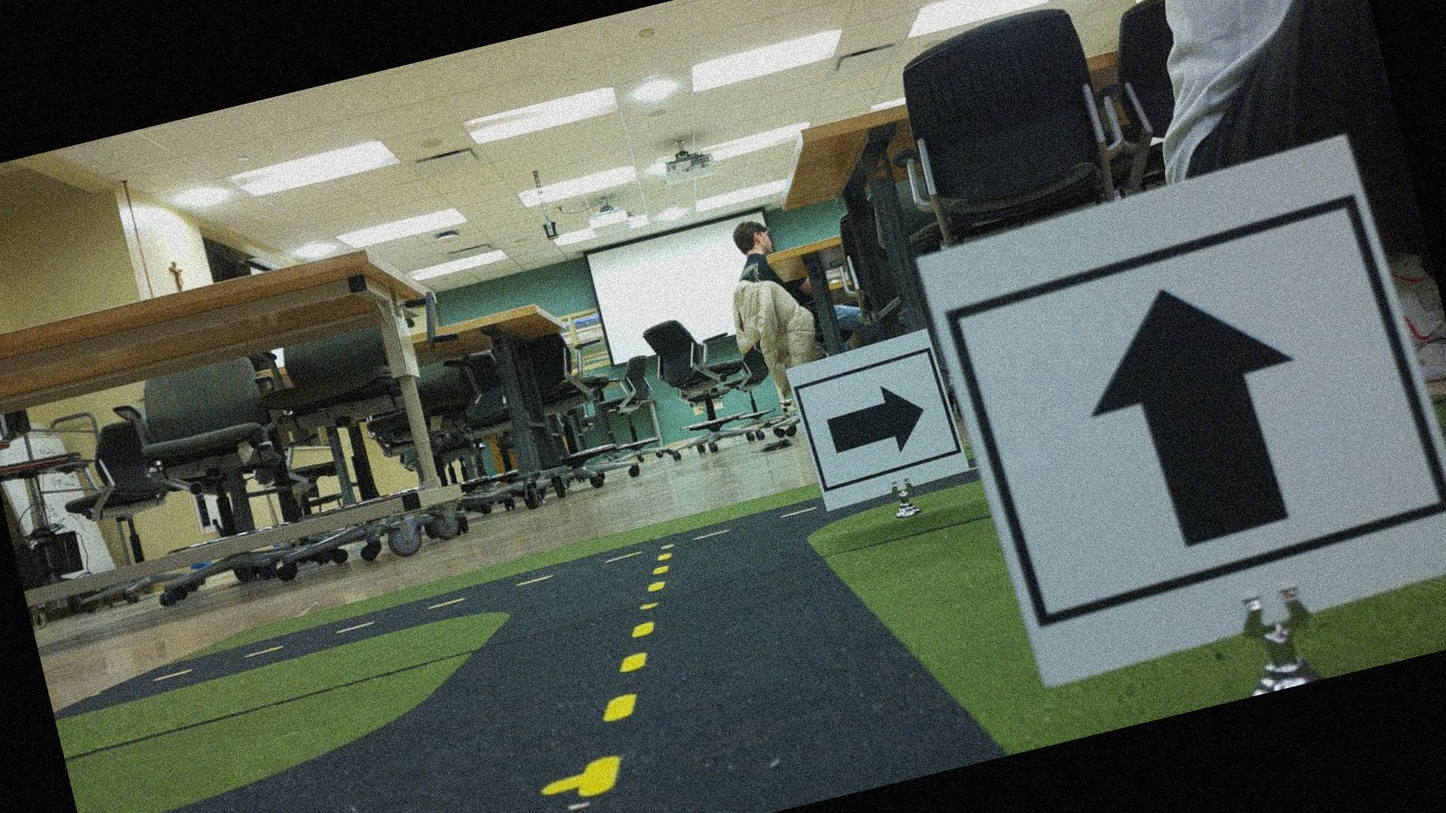gostraight: (946, 138, 1445, 668)
yellowline: (532, 542, 723, 793)
